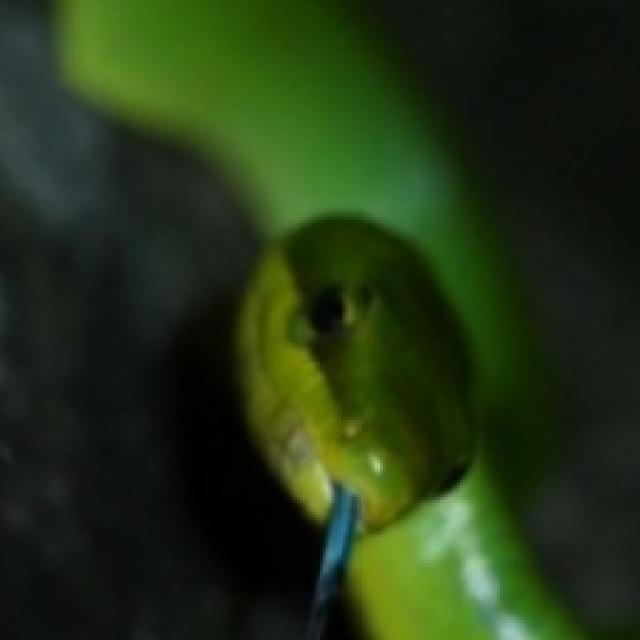red-tailed green ratsnake: (59, 0, 582, 639)
